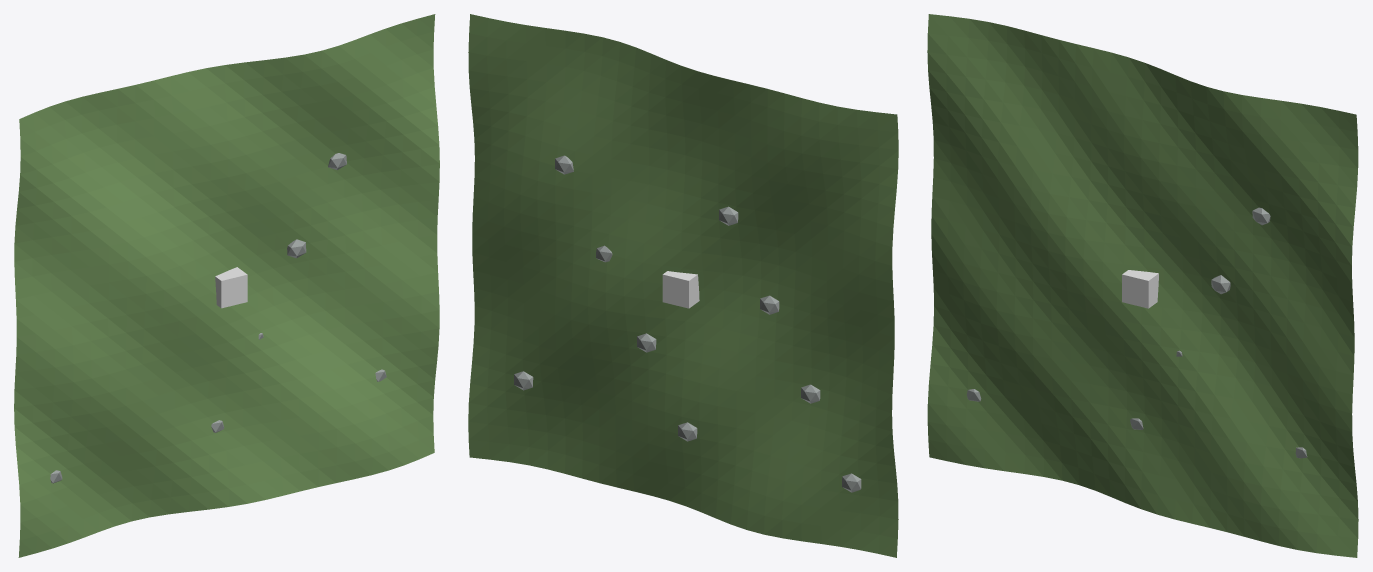
The model's file is atlas_hills.glb.
3 renders of one model, left to right at view 1: azimuth 30°, elevation 25°; view 2: azimuth 150°, elevation 25°; view 3: azimuth 330°, elevation 25°, orthographic.
Visible parts, largest first — view 1: Meadow_Hill_Tile, Cube; view 2: Meadow_Hill_Tile, Cube; view 3: Meadow_Hill_Tile, Cube.
Part boxes in pixels (left/top/right/bottom): Meadow_Hill_Tile: left=14, top=14, right=439, bottom=557; Cube: left=215, top=267, right=247, bottom=308; Meadow_Hill_Tile: left=468, top=14, right=898, bottom=557; Cube: left=662, top=271, right=699, bottom=308; Meadow_Hill_Tile: left=927, top=14, right=1358, bottom=557; Cube: left=1122, top=270, right=1158, bottom=308.
Size of the model in its own units: 32 by 32 by 2.01.
